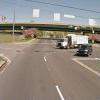Bridge: (3, 13, 95, 36)
